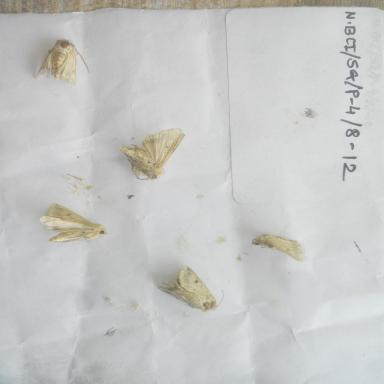abw: (110, 121, 192, 184), (145, 259, 225, 319), (32, 198, 117, 251), (27, 30, 97, 88), (246, 230, 312, 270)
